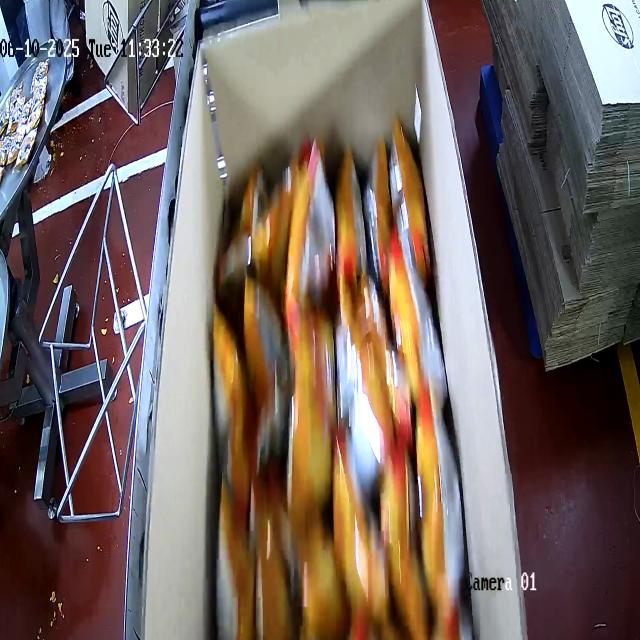FRENCH_CHEESE: (210, 113, 468, 637)
